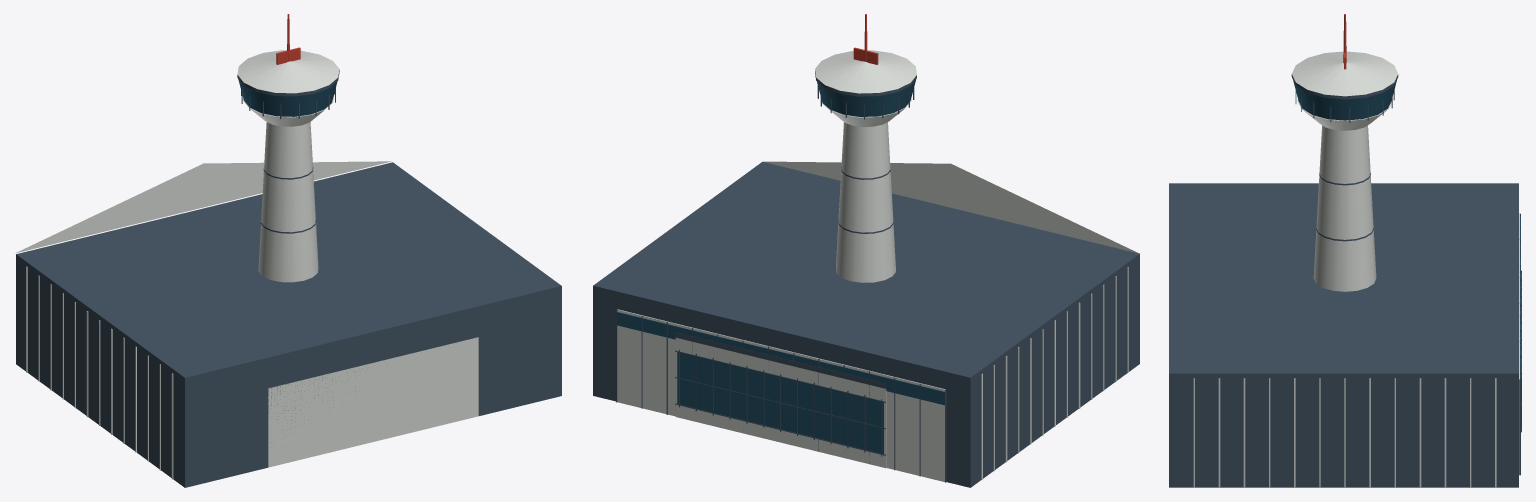
Rendered from airport-kit.glb.
3 renders of one model, left to right at view 1: azimuth 30°, elevation 25°; view 2: azimuth 150°, elevation 25°; view 3: azimuth 270°, elevation 25°, orthographic. The views are drawn at different scales.
Parts seen in each view (by area): view 1: HangarNear-steel, TerminalBayNear-shell, TowerNear-shell, HangarNear-shell, TowerNear-glass, TerminalBayNear-steel, TowerNear-steel; view 2: HangarNear-steel, HangarNear-shell, TowerNear-shell, TerminalBayNear-glass, TerminalBayNear-shell, TerminalBayNear-steel, HangarNear-glass, TowerNear-glass, TowerNear-steel; view 3: HangarNear-steel, TowerNear-shell, HangarNear-shell, TowerNear-glass, TowerNear-steel.
Boxes of the visible parts, x1,y1,x2,y2 form: HangarNear-steel: (16, 162, 561, 487); TerminalBayNear-shell: (268, 337, 478, 467); TowerNear-shell: (237, 50, 339, 282); HangarNear-shell: (15, 161, 391, 479); TowerNear-glass: (238, 79, 337, 116); TerminalBayNear-steel: (268, 332, 478, 387); TowerNear-steel: (237, 69, 339, 233); HangarNear-steel: (593, 162, 1139, 487); HangarNear-shell: (617, 161, 1139, 481); TowerNear-shell: (815, 50, 916, 282); TerminalBayNear-glass: (677, 352, 883, 454); TerminalBayNear-shell: (675, 337, 886, 468); TerminalBayNear-steel: (675, 332, 886, 456); HangarNear-glass: (617, 312, 944, 405); TowerNear-glass: (817, 79, 916, 116); TowerNear-steel: (815, 71, 916, 233); HangarNear-steel: (1169, 183, 1520, 487); TowerNear-shell: (1292, 51, 1397, 291); HangarNear-shell: (1193, 214, 1519, 487); TowerNear-glass: (1293, 80, 1396, 120); TowerNear-steel: (1291, 74, 1398, 241).
Bounding box in the file's own units: 90 × 83 × 70.17.
